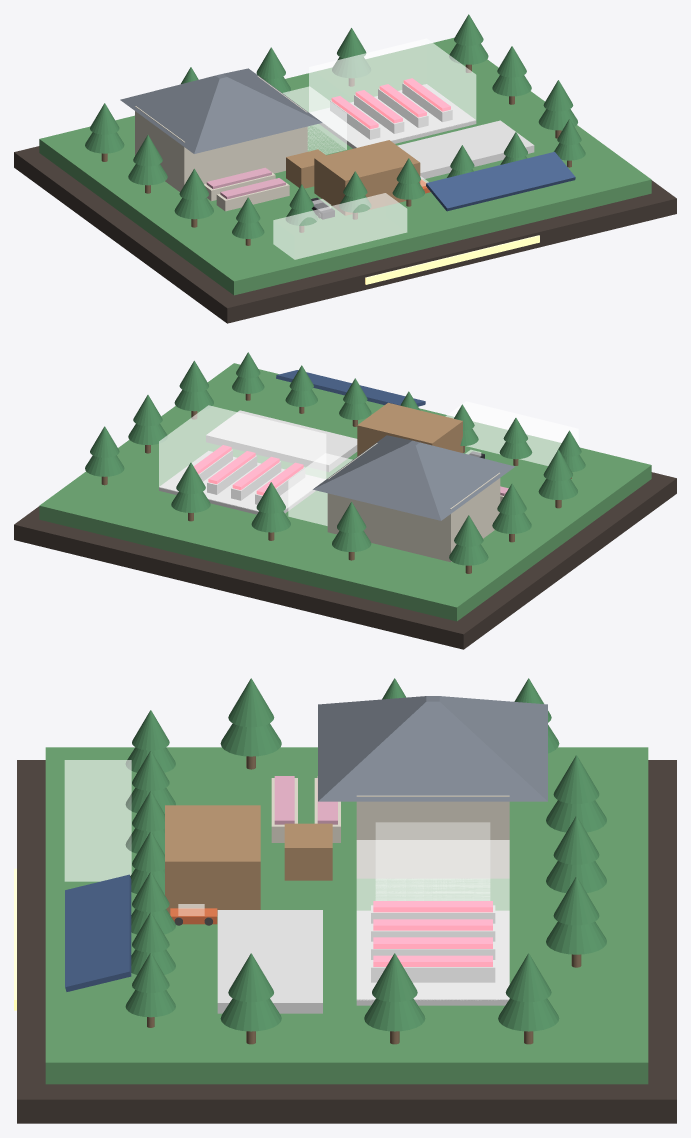
Rendered from maqueta_04_nasu_kogen.glb.
3 views of the same model, one above another, from view 1: azimuth 30°, elevation 25°; view 2: azimuth 150°, elevation 25°; view 3: azimuth 270°, elevation 25° (orthographic). The views are drawn at different scales.
Parts seen in each view (by area): view 1: NasuMeadowBase, MaquetaPlinth, SeiwaGlassPavilion, MitsuiSlateRoof, MitsuiManorMain, B2B_Greenhouse, TimberBarn, SolarSharingArray, EquestrianPaddockFence, SeiwaWhiteStoneFloor, OrangerieCatSalon, GoldTrim (+27 smaller); view 2: NasuMeadowBase, MaquetaPlinth, SeiwaGlassPavilion, MitsuiSlateRoof, MitsuiManorMain, EquestrianPaddockFence, B2B_Greenhouse, TimberBarn, OrangerieCatSalon, SeiwaWhiteStoneFloor, SolarSharingArray, NasuTree_-6.8_3.8_c1 (+25 smaller); view 3: NasuMeadowBase, MaquetaPlinth, MitsuiSlateRoof, SeiwaGlassPavilion, MitsuiManorMain, TimberBarn, EquestrianPaddockFence, B2B_Greenhouse, SolarSharingArray, SeiwaWhiteStoneFloor, OrangerieCatSalon, AraucanaCleanCoop (+36 smaller).
Part boxes in pixels (bbox=[...]): NasuMeadowBase: bbox=[39, 37, 651, 295]; MaquetaPlinth: bbox=[14, 146, 676, 323]; SeiwaGlassPavilion: bbox=[309, 38, 476, 147]; MitsuiSlateRoof: bbox=[120, 68, 322, 153]; MitsuiManorMain: bbox=[135, 76, 307, 191]; B2B_Greenhouse: bbox=[273, 193, 407, 259]; TimberBarn: bbox=[314, 140, 420, 215]; SolarSharingArray: bbox=[426, 151, 575, 211]; EquestrianPaddockFence: bbox=[397, 120, 534, 179]; SeiwaWhiteStoneFloor: bbox=[310, 84, 476, 148]; OrangerieCatSalon: bbox=[282, 86, 346, 154]; GoldTrim: bbox=[365, 235, 539, 284]; NasuMeadowBase: bbox=[39, 363, 651, 621]; MaquetaPlinth: bbox=[14, 472, 676, 649]; SeiwaGlassPavilion: bbox=[159, 405, 326, 511]; MitsuiSlateRoof: bbox=[313, 435, 515, 520]; MitsuiManorMain: bbox=[327, 443, 500, 562]; EquestrianPaddockFence: bbox=[206, 410, 357, 471]; B2B_Greenhouse: bbox=[445, 401, 578, 465]; TimberBarn: bbox=[357, 402, 462, 456]; OrangerieCatSalon: bbox=[288, 453, 352, 525]; SeiwaWhiteStoneFloor: bbox=[159, 451, 325, 514]; SolarSharingArray: bbox=[276, 370, 425, 406]; NasuTree_-6.8_3.8_c1: bbox=[449, 544, 488, 565]; NasuMeadowBase: bbox=[45, 747, 648, 1084]; MaquetaPlinth: bbox=[17, 760, 676, 1123]; MitsuiSlateRoof: bbox=[318, 696, 547, 801]; SeiwaGlassPavilion: bbox=[356, 840, 509, 1000]; MitsuiManorMain: bbox=[356, 795, 509, 878]; TimberBarn: bbox=[165, 805, 260, 915]; EquestrianPaddockFence: bbox=[217, 910, 322, 1013]; B2B_Greenhouse: bbox=[64, 760, 131, 881]; SolarSharingArray: bbox=[65, 874, 131, 991]; SeiwaWhiteStoneFloor: bbox=[356, 910, 509, 1005]; OrangerieCatSalon: bbox=[376, 822, 489, 900]; AraucanaCleanCoop: bbox=[284, 823, 332, 880].
Size of what is drawn, in the model's own units: 16.8 by 4.2 by 13.86.
